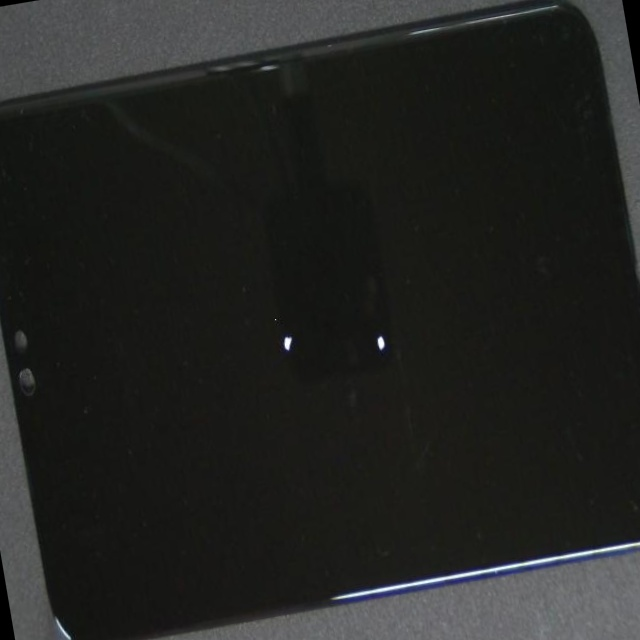stain: (130, 105, 600, 587), (105, 98, 466, 520)
